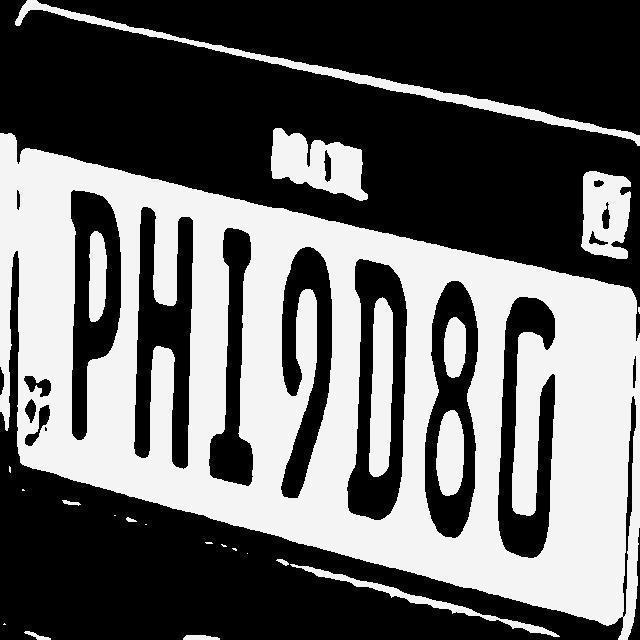0: (488, 294, 571, 570)
8: (428, 260, 488, 544)
9: (275, 243, 342, 504)
d: (350, 257, 410, 533)
h: (131, 202, 202, 473)
i: (206, 225, 270, 490)
p: (62, 189, 122, 449)
